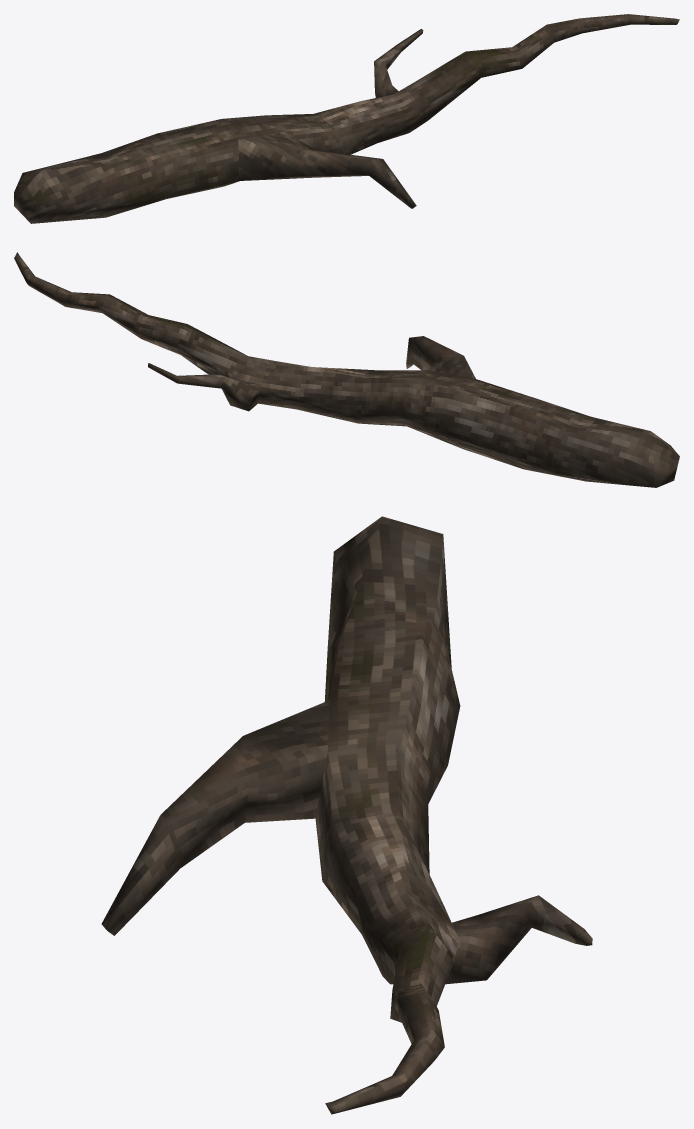
The model's file is tree_branch_3.fbx.
3 views of the same model, one above another, from view 1: azimuth 30°, elevation 25°; view 2: azimuth 150°, elevation 25°; view 3: azimuth 270°, elevation 25° (orthographic). The views are drawn at different scales.
Parts seen in each view (by area): view 1: tree_branch_3; view 2: tree_branch_3; view 3: tree_branch_3.
Boxes of the visible parts, x1=… form: tree_branch_3: x1=14, y1=14, x2=679, y2=223; tree_branch_3: x1=14, y1=252, x2=679, y2=487; tree_branch_3: x1=101, y1=516, x2=592, y2=1114.
Size of the model in its own units: 223 by 72.75 by 24.75.
